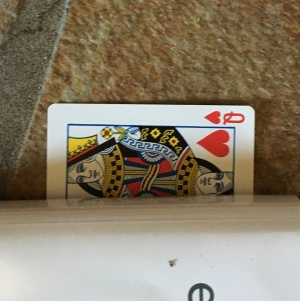card: (43, 100, 256, 201)
